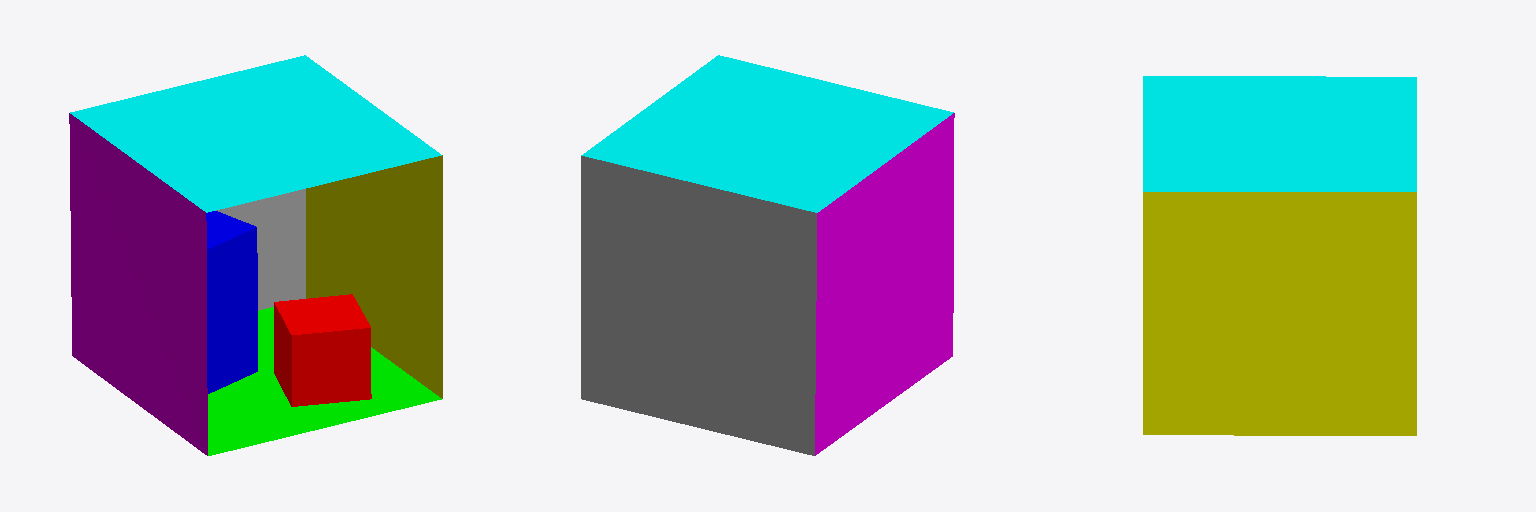
Rendered from cornell-box.obj.
3 renders of one model, left to right at view 1: azimuth 30°, elevation 25°; view 2: azimuth 150°, elevation 25°; view 3: azimuth 270°, elevation 25°, orthographic.
Parts seen in each view (by area): view 1: left_wall, ceiling, right_wall, floor, short_box, tall_box, back_wall; view 2: back_wall, left_wall, ceiling; view 3: right_wall, ceiling.
Part boxes in pixels (x1,y1,x2,y2): left_wall: (69, 113, 207, 455); ceiling: (70, 55, 441, 212); right_wall: (306, 155, 442, 398); floor: (208, 307, 441, 455); short_box: (274, 294, 371, 406); tall_box: (206, 211, 257, 393); back_wall: (216, 189, 305, 310); back_wall: (581, 156, 816, 455); left_wall: (815, 113, 954, 455); ceiling: (581, 55, 953, 212); right_wall: (1143, 192, 1416, 435); ceiling: (1143, 76, 1416, 191).
Size of the model in its own units: 5.56 by 5.49 by 5.6.